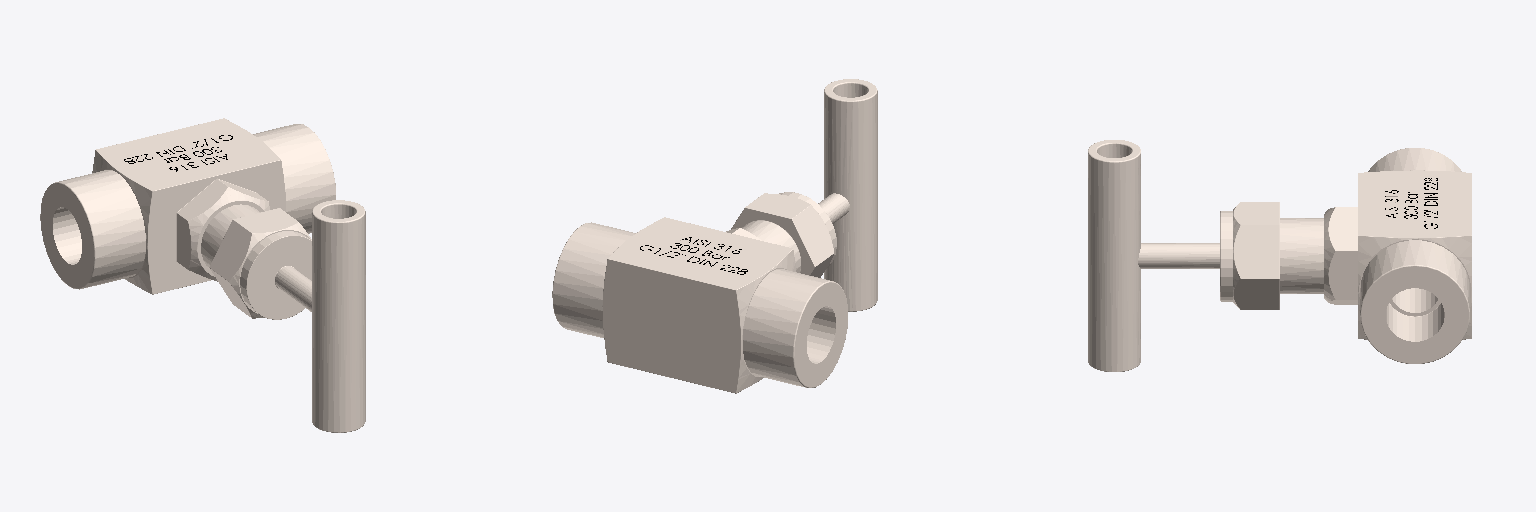
File: Needle_Valve.obj
3 renders of one model, left to right at view 1: azimuth 30°, elevation 25°; view 2: azimuth 150°, elevation 25°; view 3: azimuth 270°, elevation 25°, orthographic.
Visible parts, largest first — view 1: mesh6, mesh134, mesh101, mesh95, mesh112, mesh9, mesh103, mesh23, mesh58, mesh104, mesh61, mesh99 (+6 smaller); view 2: mesh127, mesh6, mesh134, mesh101, mesh112, mesh103, mesh23, mesh104, mesh99, mesh52, mesh36, mesh58 (+1 smaller); view 3: mesh6, mesh134, mesh110, mesh58, mesh112, mesh48, mesh7, mesh125, mesh101, mesh109, mesh50, mesh64 (+5 smaller).
Boxes of the visible parts, <box> form: mesh6: <box>312,212,365,431</box>; mesh134: <box>96,118,280,190</box>; mesh101: <box>55,170,145,288</box>; mesh95: <box>148,161,285,293</box>; mesh112: <box>253,124,335,233</box>; mesh9: <box>247,236,311,319</box>; mesh103: <box>41,184,93,288</box>; mesh23: <box>209,220,251,280</box>; mesh58: <box>201,204,260,268</box>; mesh104: <box>53,207,81,264</box>; mesh61: <box>188,187,269,281</box>; mesh99: <box>92,150,151,293</box>; mesh127: <box>603,260,740,392</box>; mesh6: <box>824,91,877,310</box>; mesh134: <box>608,217,792,289</box>; mesh101: <box>743,269,829,387</box>; mesh112: <box>553,223,635,337</box>; mesh103: <box>795,283,847,386</box>; mesh23: <box>792,205,833,266</box>; mesh104: <box>807,306,835,363</box>; mesh99: <box>736,250,795,392</box>; mesh52: <box>731,208,814,274</box>; mesh36: <box>745,193,809,218</box>; mesh58: <box>742,221,800,272</box>; mesh6: <box>1088,154,1140,371</box>; mesh134: <box>1358,170,1471,237</box>; mesh110: <box>1361,266,1468,363</box>; mesh58: <box>1280,218,1323,293</box>; mesh112: <box>1360,240,1469,309</box>; mesh48: <box>1234,225,1278,278</box>; mesh7: <box>1138,243,1219,268</box>; mesh125: <box>1358,236,1471,339</box>; mesh101: <box>1368,148,1461,171</box>; mesh109: <box>1386,303,1444,341</box>; mesh50: <box>1234,279,1278,309</box>; mesh64: <box>1329,251,1357,299</box>.
Size of the model in its own units: 0.066 by 0.055 by 0.0908.